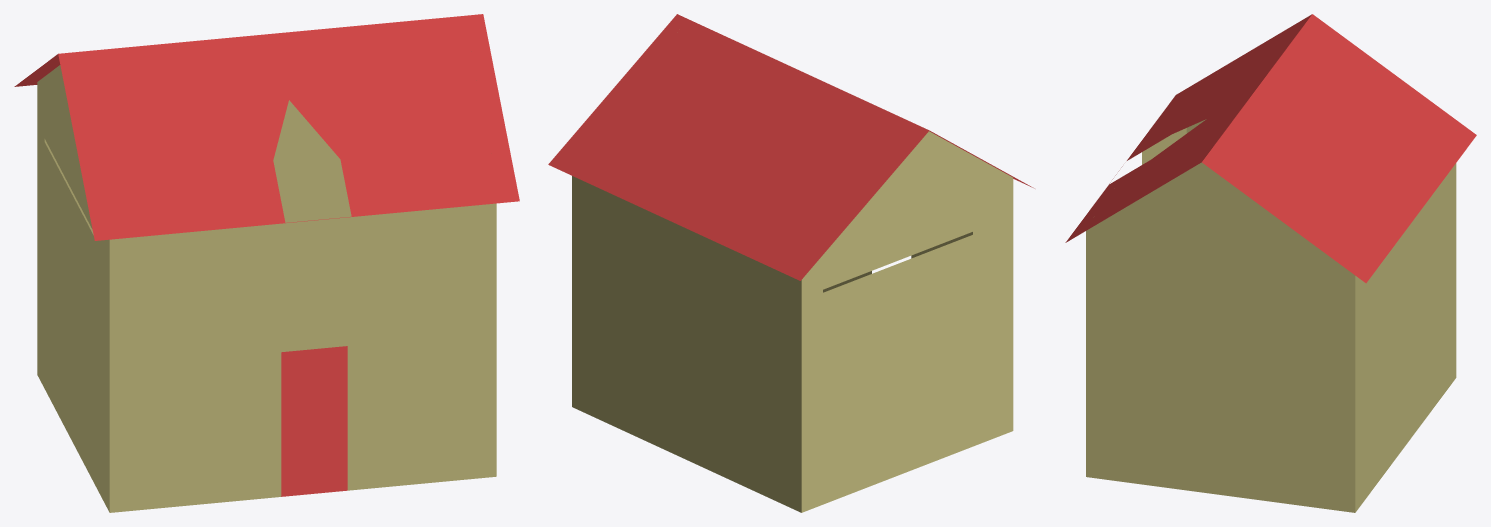
The picture shows the model from 3 angles, left to right: view 1: azimuth 30°, elevation 25°; view 2: azimuth 150°, elevation 25°; view 3: azimuth 270°, elevation 25°; orthographic projection. The views are drawn at different scales.
Size of the model in its own units: 13.47 by 12.44 by 11.24.
